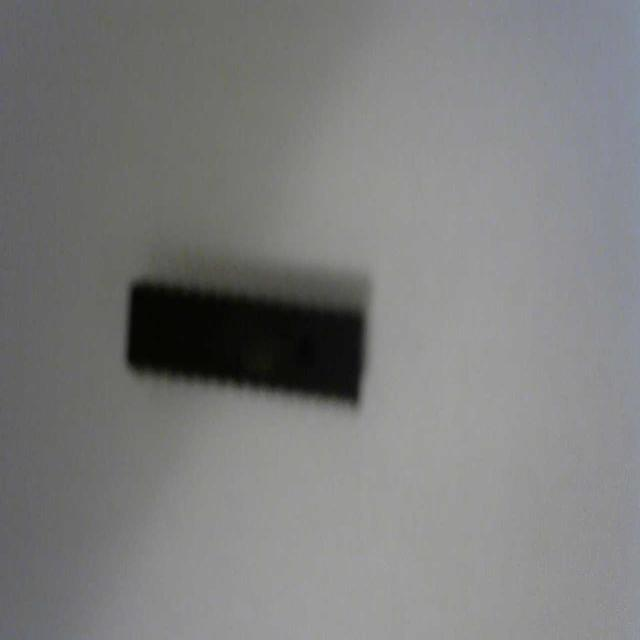atmega: (123, 268, 370, 412)
